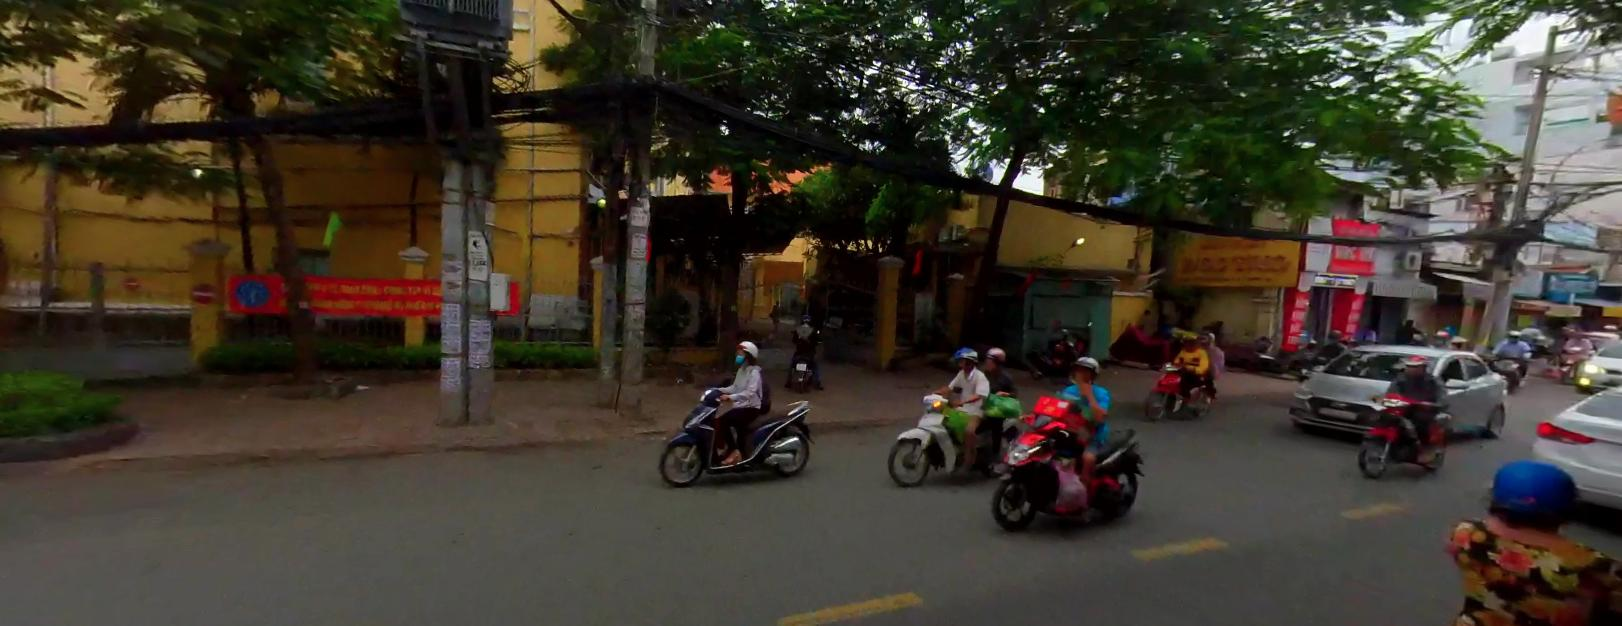Cam nguoc chieu: (191, 282, 215, 302), (124, 276, 140, 288)
